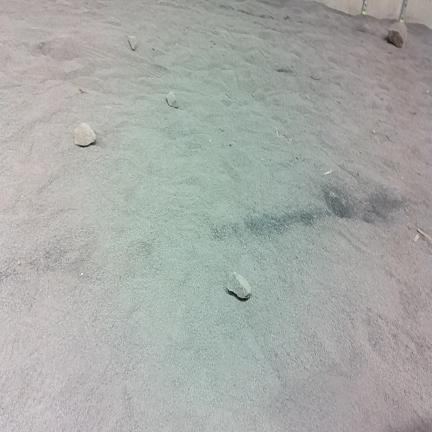Rock: (228, 272, 251, 298), (388, 22, 407, 48), (75, 123, 95, 146), (167, 91, 178, 108), (357, 23, 371, 33), (128, 36, 138, 50), (407, 223, 411, 230)
